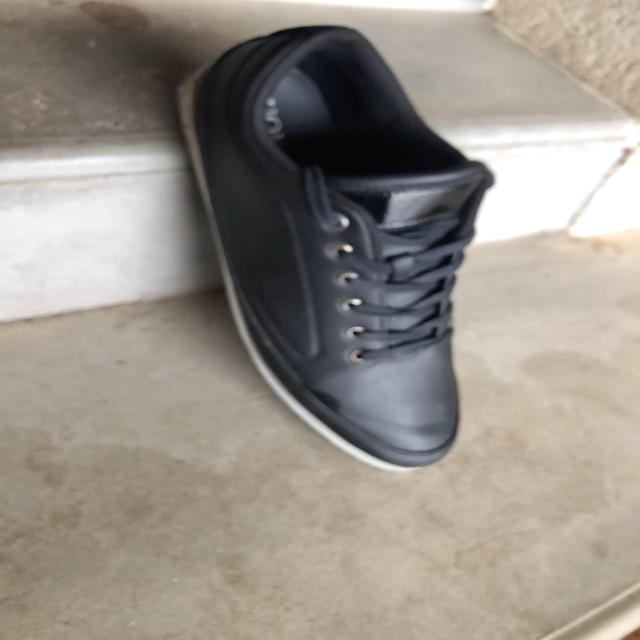shoe: (188, 26, 495, 474)
